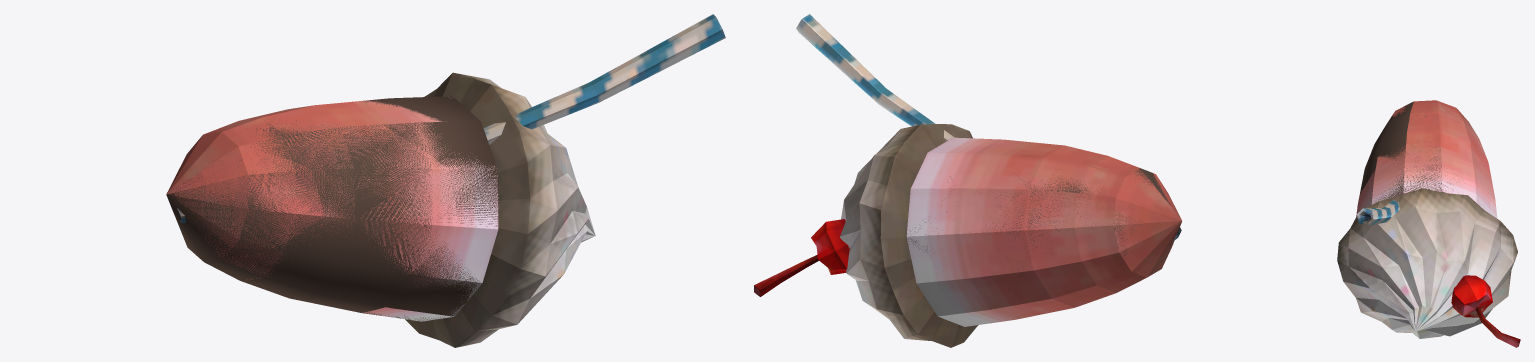
The model's file is MilkshakeAnchor.fbx.
The picture shows the model from 3 angles, left to right: view 1: azimuth 30°, elevation 25°; view 2: azimuth 150°, elevation 25°; view 3: azimuth 270°, elevation 25°; orthographic projection. The views are drawn at different scales.
Parts seen in each view (by area): view 1: Milkshake_Liquid, MilkshakeLiquid, Toppings, Milkshake; view 2: MilkshakeLiquid, Toppings, Milkshake, Milkshake_Liquid; view 3: Toppings, MilkshakeLiquid, Milkshake_Liquid, Milkshake.
Boxes of the visible parts, left/top/right/bottom form: Milkshake_Liquid: left=166, top=96, right=498, bottom=320; MilkshakeLiquid: left=166, top=100, right=498, bottom=321; Toppings: left=405, top=72, right=595, bottom=347; Milkshake: left=177, top=14, right=725, bottom=223; MilkshakeLiquid: left=906, top=137, right=1181, bottom=326; Toppings: left=754, top=124, right=978, bottom=347; Milkshake: left=796, top=14, right=1181, bottom=241; Milkshake_Liquid: left=907, top=162, right=1174, bottom=276; Toppings: left=1337, top=188, right=1520, bottom=347; MilkshakeLiquid: left=1356, top=100, right=1497, bottom=218; Milkshake_Liquid: left=1360, top=101, right=1456, bottom=204; Milkshake: left=1356, top=200, right=1399, bottom=225.
Size of the model in its own units: 28.19 by 13.14 by 10.74.
